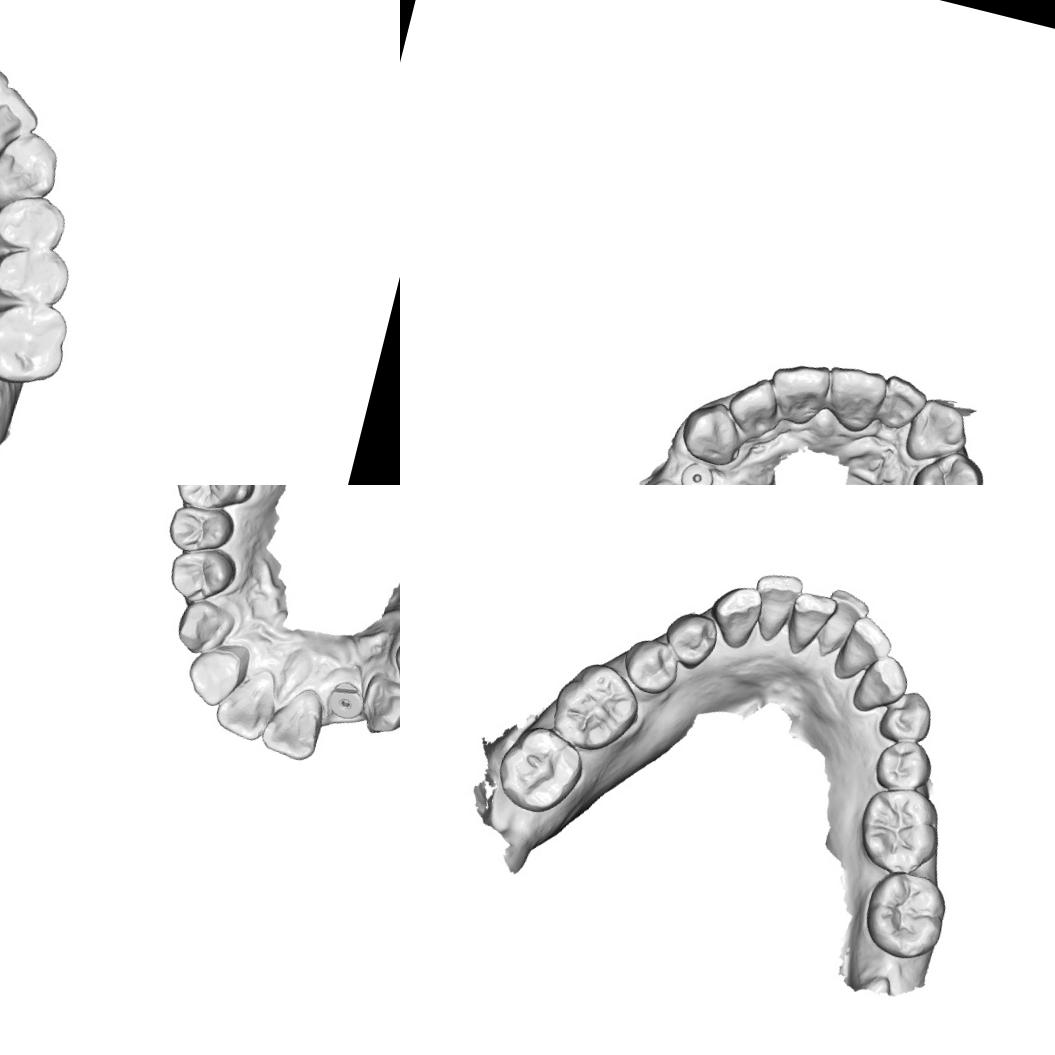canine: (898, 392, 975, 474), (0, 122, 66, 217), (672, 392, 749, 470), (846, 646, 914, 720), (704, 578, 766, 655), (171, 595, 238, 662), (355, 670, 400, 743)
implant: (322, 676, 368, 723), (675, 458, 716, 485)
incisor: (759, 352, 837, 432), (257, 680, 330, 764), (210, 659, 280, 744), (817, 359, 891, 439), (828, 610, 899, 690), (812, 585, 874, 666), (742, 566, 804, 645), (720, 369, 785, 442), (780, 586, 840, 662), (180, 641, 245, 711), (0, 76, 46, 167), (874, 371, 932, 437)
molar: (543, 652, 648, 760), (488, 716, 591, 822), (854, 862, 954, 967), (850, 778, 950, 882), (0, 288, 77, 394), (169, 485, 266, 520)
premolar: (0, 235, 76, 315), (162, 538, 241, 613), (0, 182, 73, 262), (162, 497, 238, 562), (618, 632, 686, 702), (868, 734, 937, 800), (659, 603, 722, 675), (874, 682, 938, 750), (905, 440, 992, 485)
